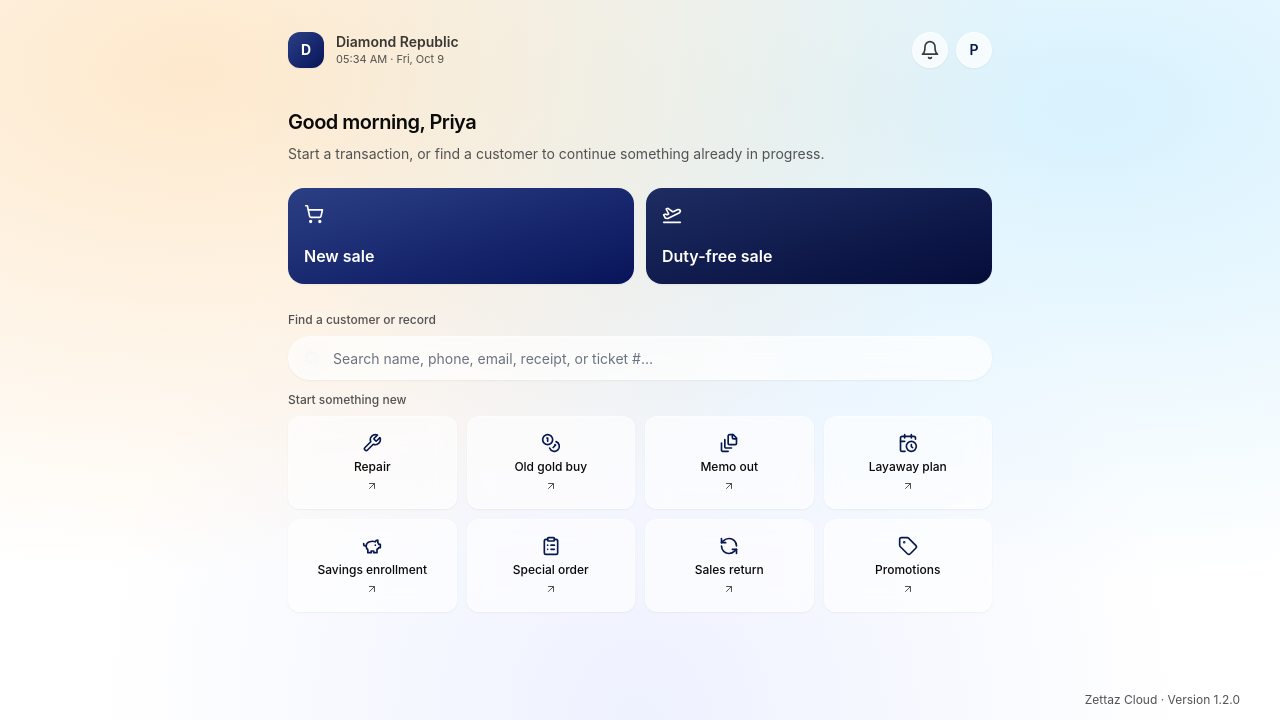
Test case: SalesHubPage › Promotions tile › closes via the X button
Click the button "Promotions". click: (908, 566)
box: [824, 519, 992, 612]
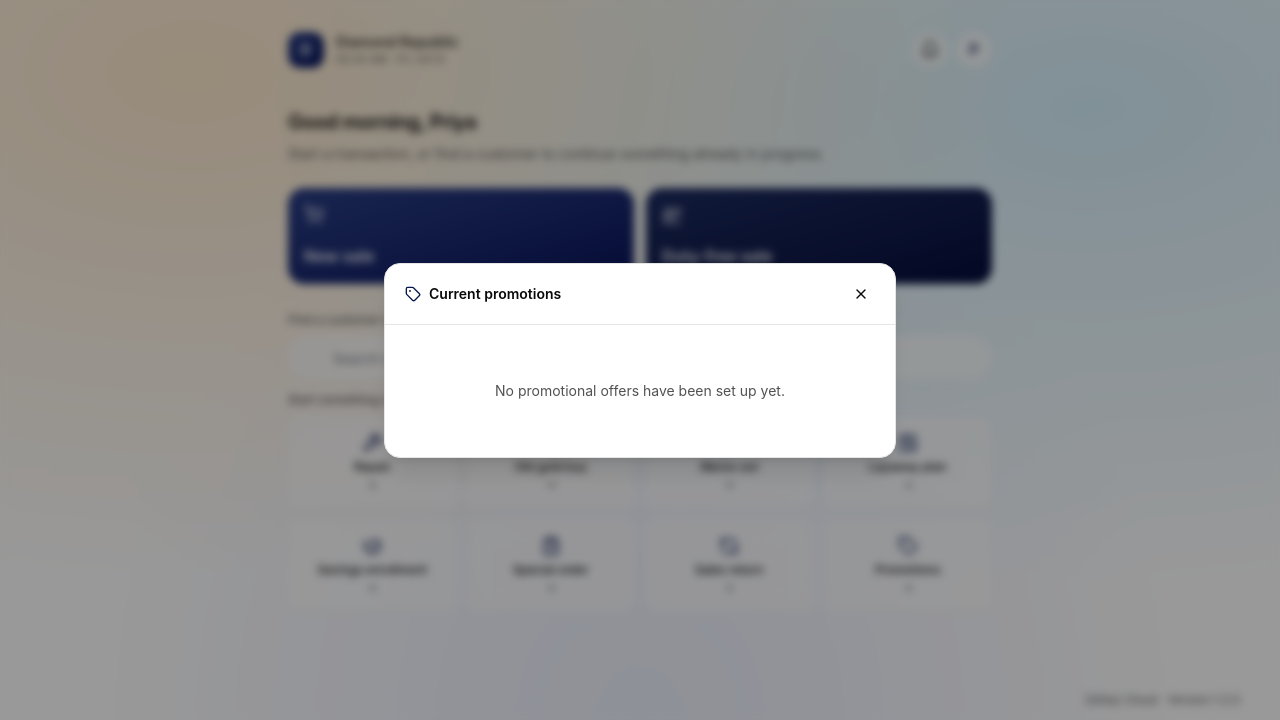
Check: the heading "Current promotions" is shown, box [429, 284, 561, 304]
Click the button named "Close". click: (861, 294)
box: [847, 280, 875, 308]
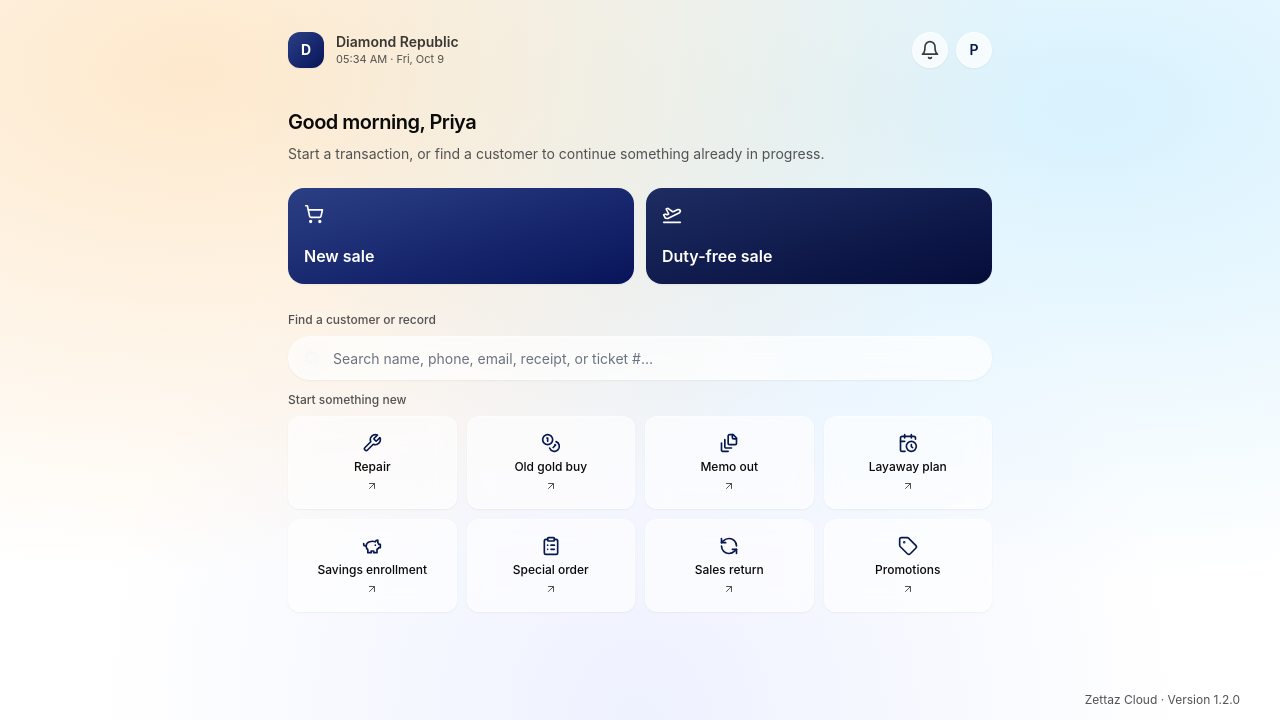
Check: the heading "Current promotions" is gone
